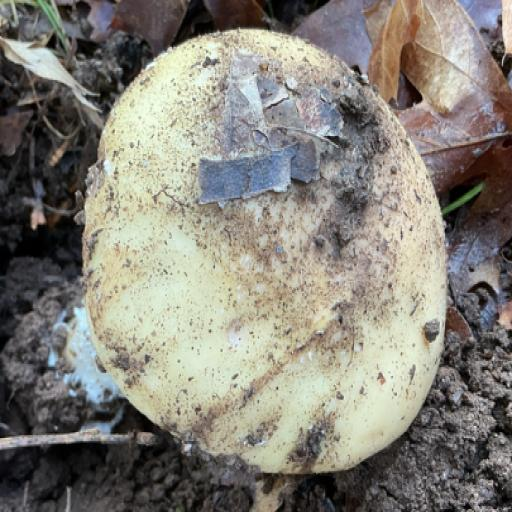mushroom: (59, 10, 475, 483)
